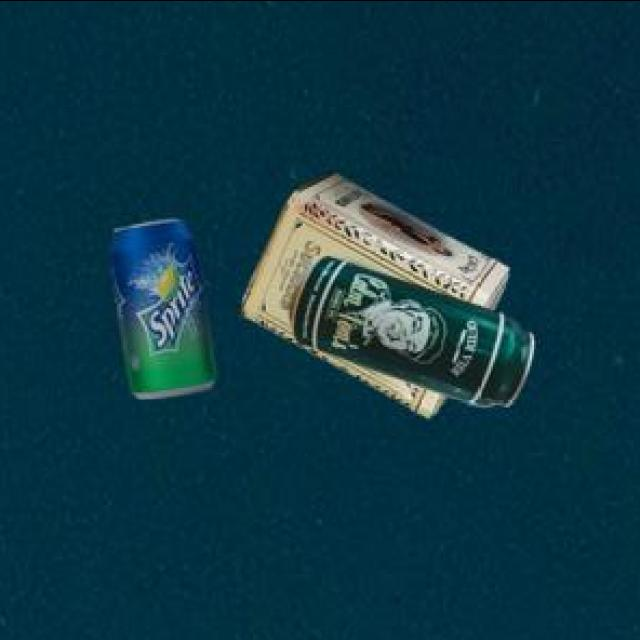logam: (239, 174, 505, 421), (286, 258, 531, 410), (107, 222, 213, 401)
